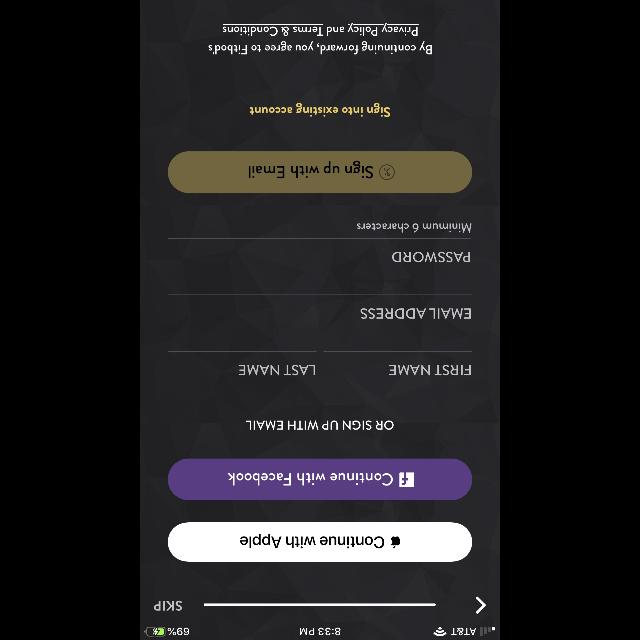icon: (476, 596, 486, 614)
input: (168, 294, 472, 320), (168, 238, 470, 262), (324, 350, 472, 376), (168, 350, 316, 376)
text: (208, 23, 432, 55), (250, 102, 390, 118), (246, 420, 394, 430), (360, 308, 470, 320), (356, 223, 472, 233), (389, 364, 471, 376), (238, 364, 316, 376), (392, 252, 470, 262), (154, 601, 182, 611)
textbutton: (168, 458, 472, 500), (168, 151, 472, 193), (168, 522, 472, 562)
uppertaskbar: (140, 626, 500, 640)
